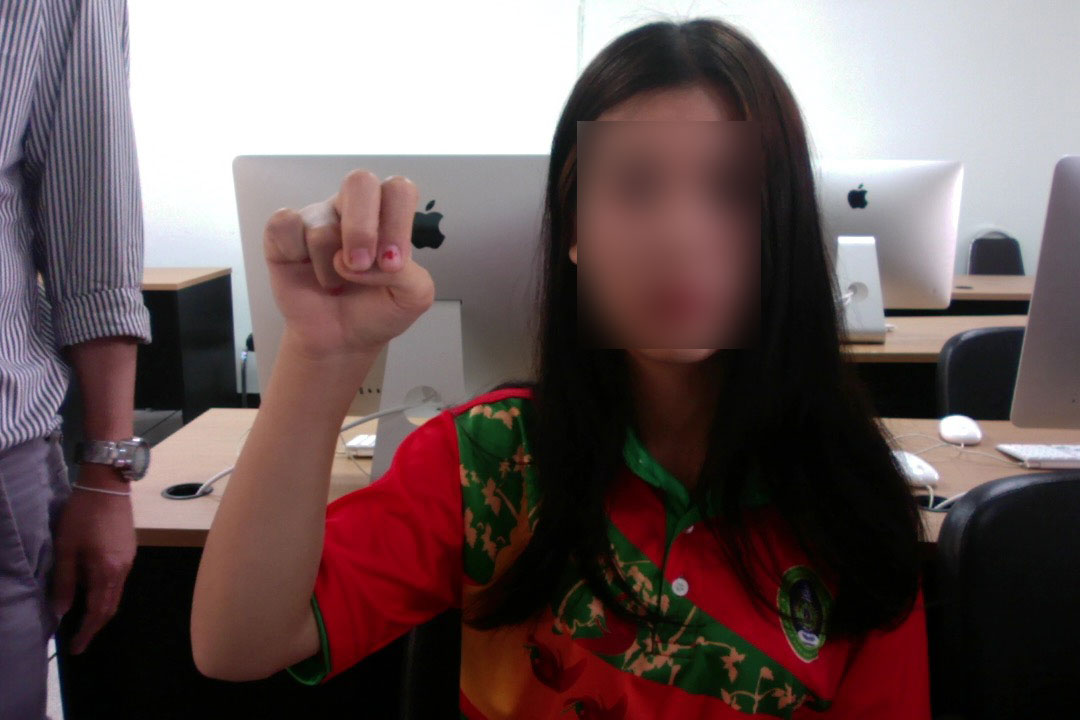nor: (255, 155, 443, 408)
